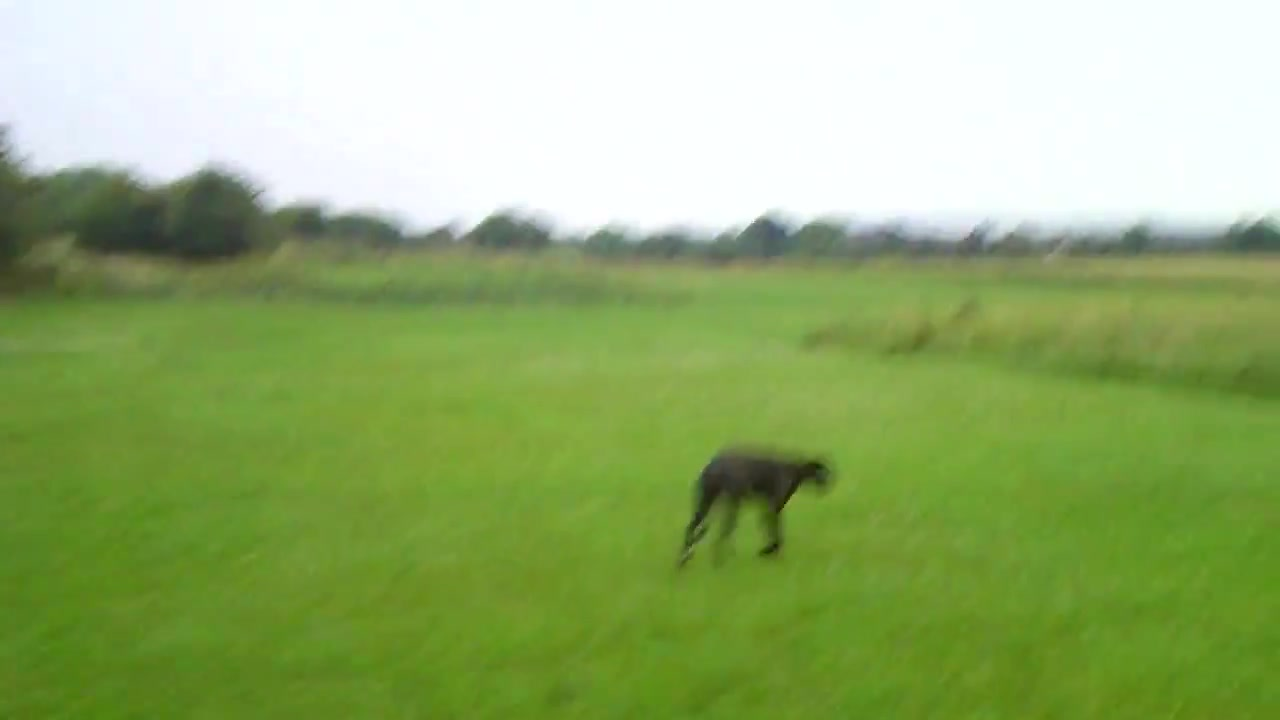dog: (682, 450, 839, 562)
